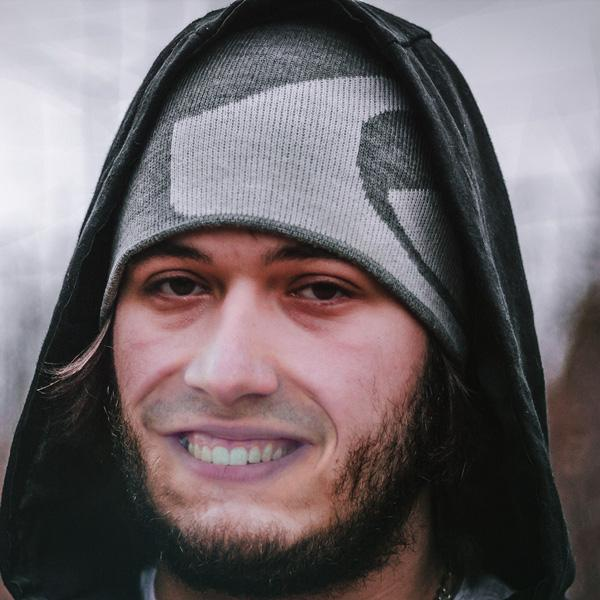Eyes: (130, 259, 222, 315), (274, 268, 366, 317)
